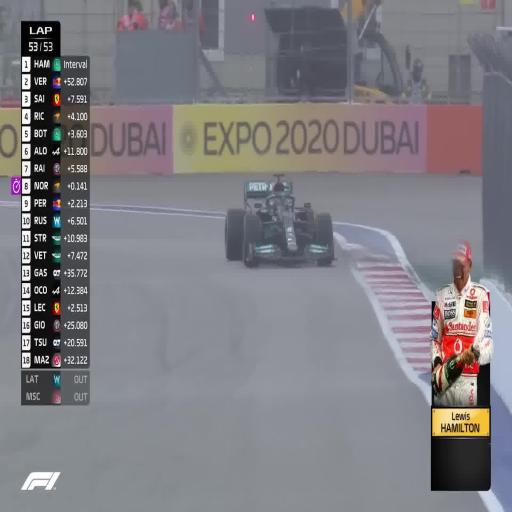f1_car: (225, 174, 334, 266)
